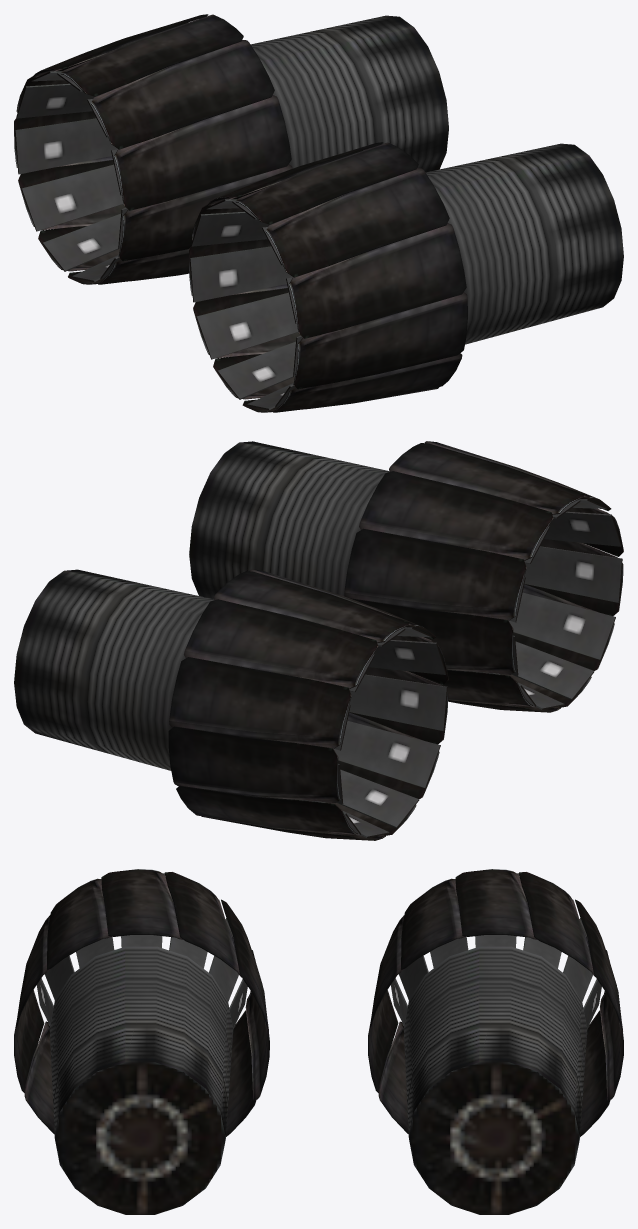
3 views of the same model, one above another, from view 1: azimuth 30°, elevation 25°; view 2: azimuth 150°, elevation 25°; view 3: azimuth 270°, elevation 25° (orthographic).
Parts seen in each view (by area): view 1: NozzleR03.001, NozzleR03.002; view 2: NozzleR03.002, NozzleR03.001; view 3: NozzleR03.002, NozzleR03.001.
Part boxes in pixels (bbox=[...]): NozzleR03.001: bbox=[189, 142, 623, 412]; NozzleR03.002: bbox=[14, 14, 448, 284]; NozzleR03.002: bbox=[14, 569, 448, 840]; NozzleR03.001: bbox=[189, 441, 623, 712]; NozzleR03.002: bbox=[368, 869, 623, 1214]; NozzleR03.001: bbox=[14, 869, 269, 1214].
Bounding box in the file's own units: 1.41 × 0.9128 × 2.17.
Materials: 1 (1 with a texture image).
